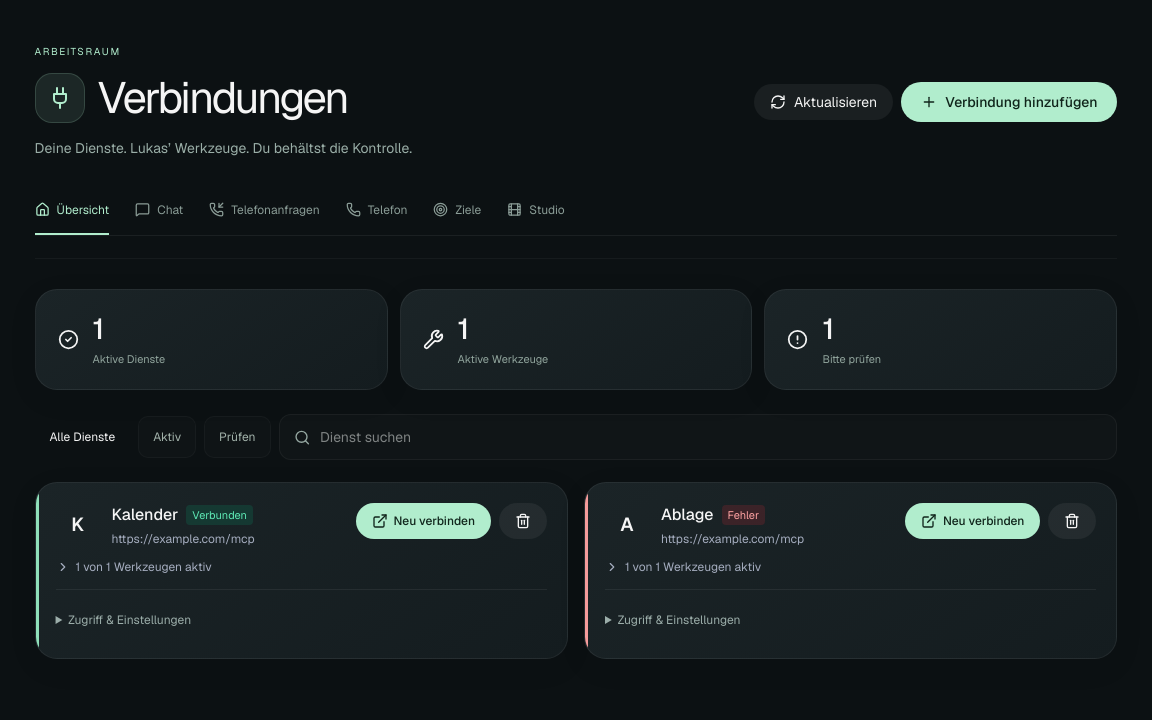
Test: Verbindungen › filtert Dienste und öffnet die Einrichtung erst auf Wunsch
Check: the text "Kalender" is shown, box [112,503,178,527]
Click the button "Prüfen": {"x": 237, "y": 437} [204,416,270,458]
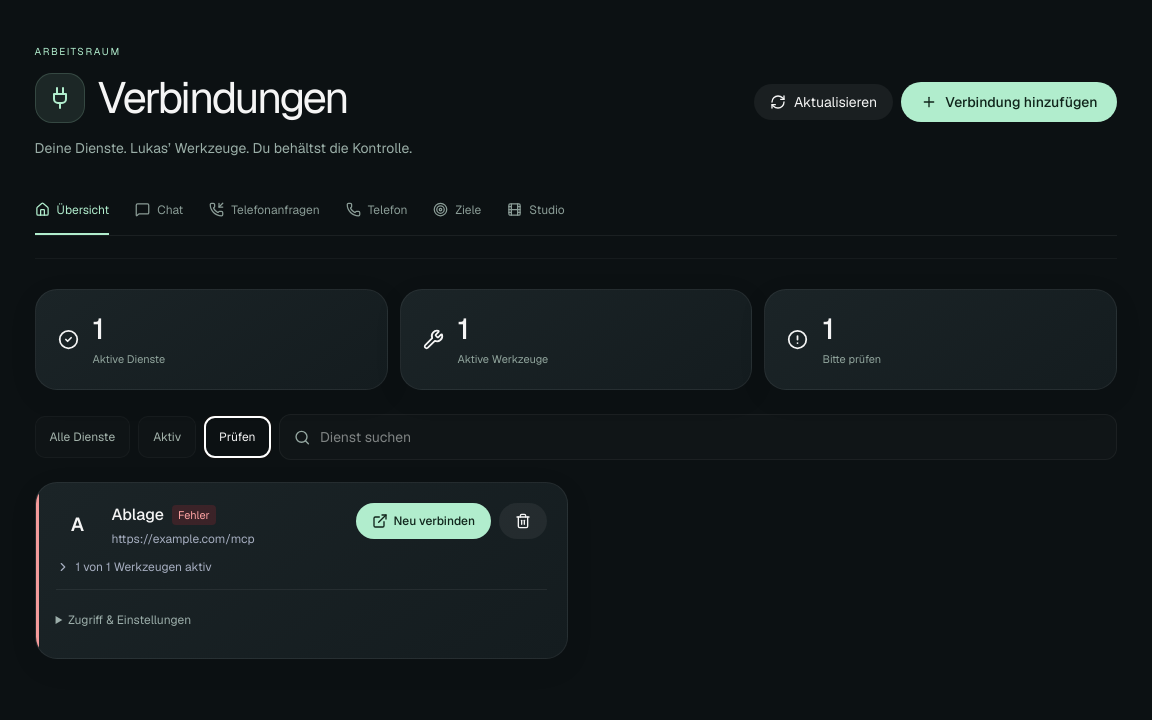
Check: the text "Ablage" is shown, box [112,503,164,527]
Check: the text "Kalender" is gone
Click the button "Alle Dienste": {"x": 82, "y": 437} [34,416,130,458]
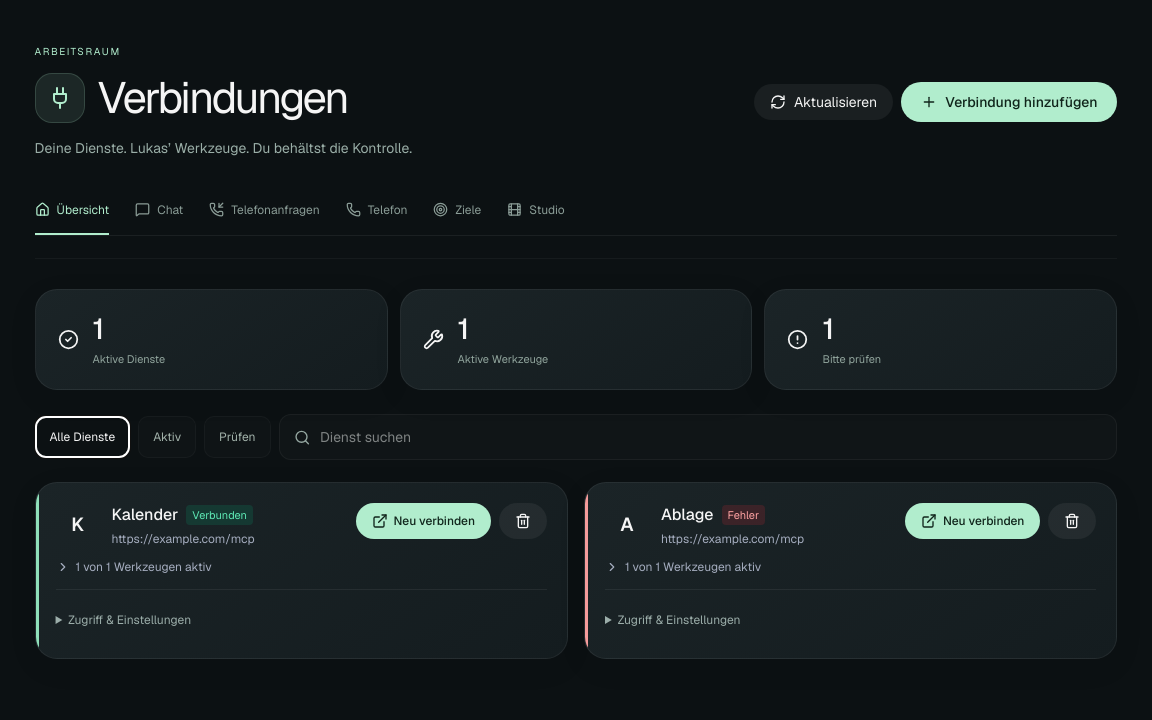
In the search field: {"x": 711, "y": 437} [320,427,1102,448], type "Kalender"
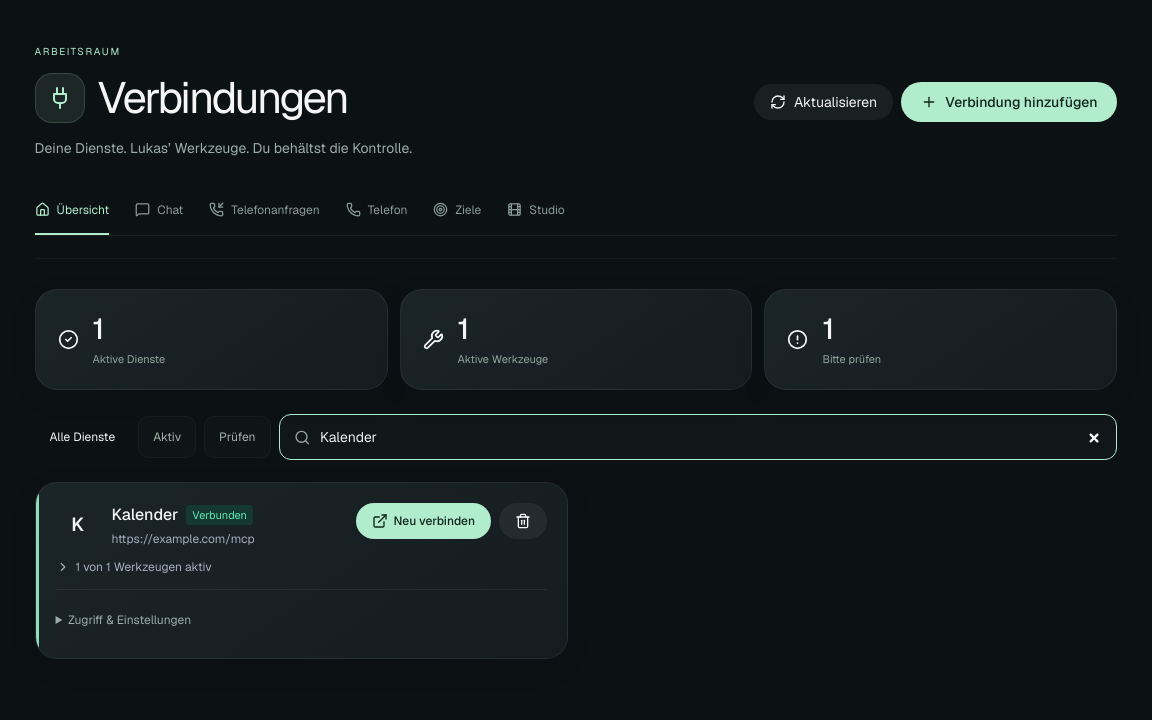
Check: the text "Kalender" is shown, box [112,503,178,527]
Check: the text "Ablage" is gone
